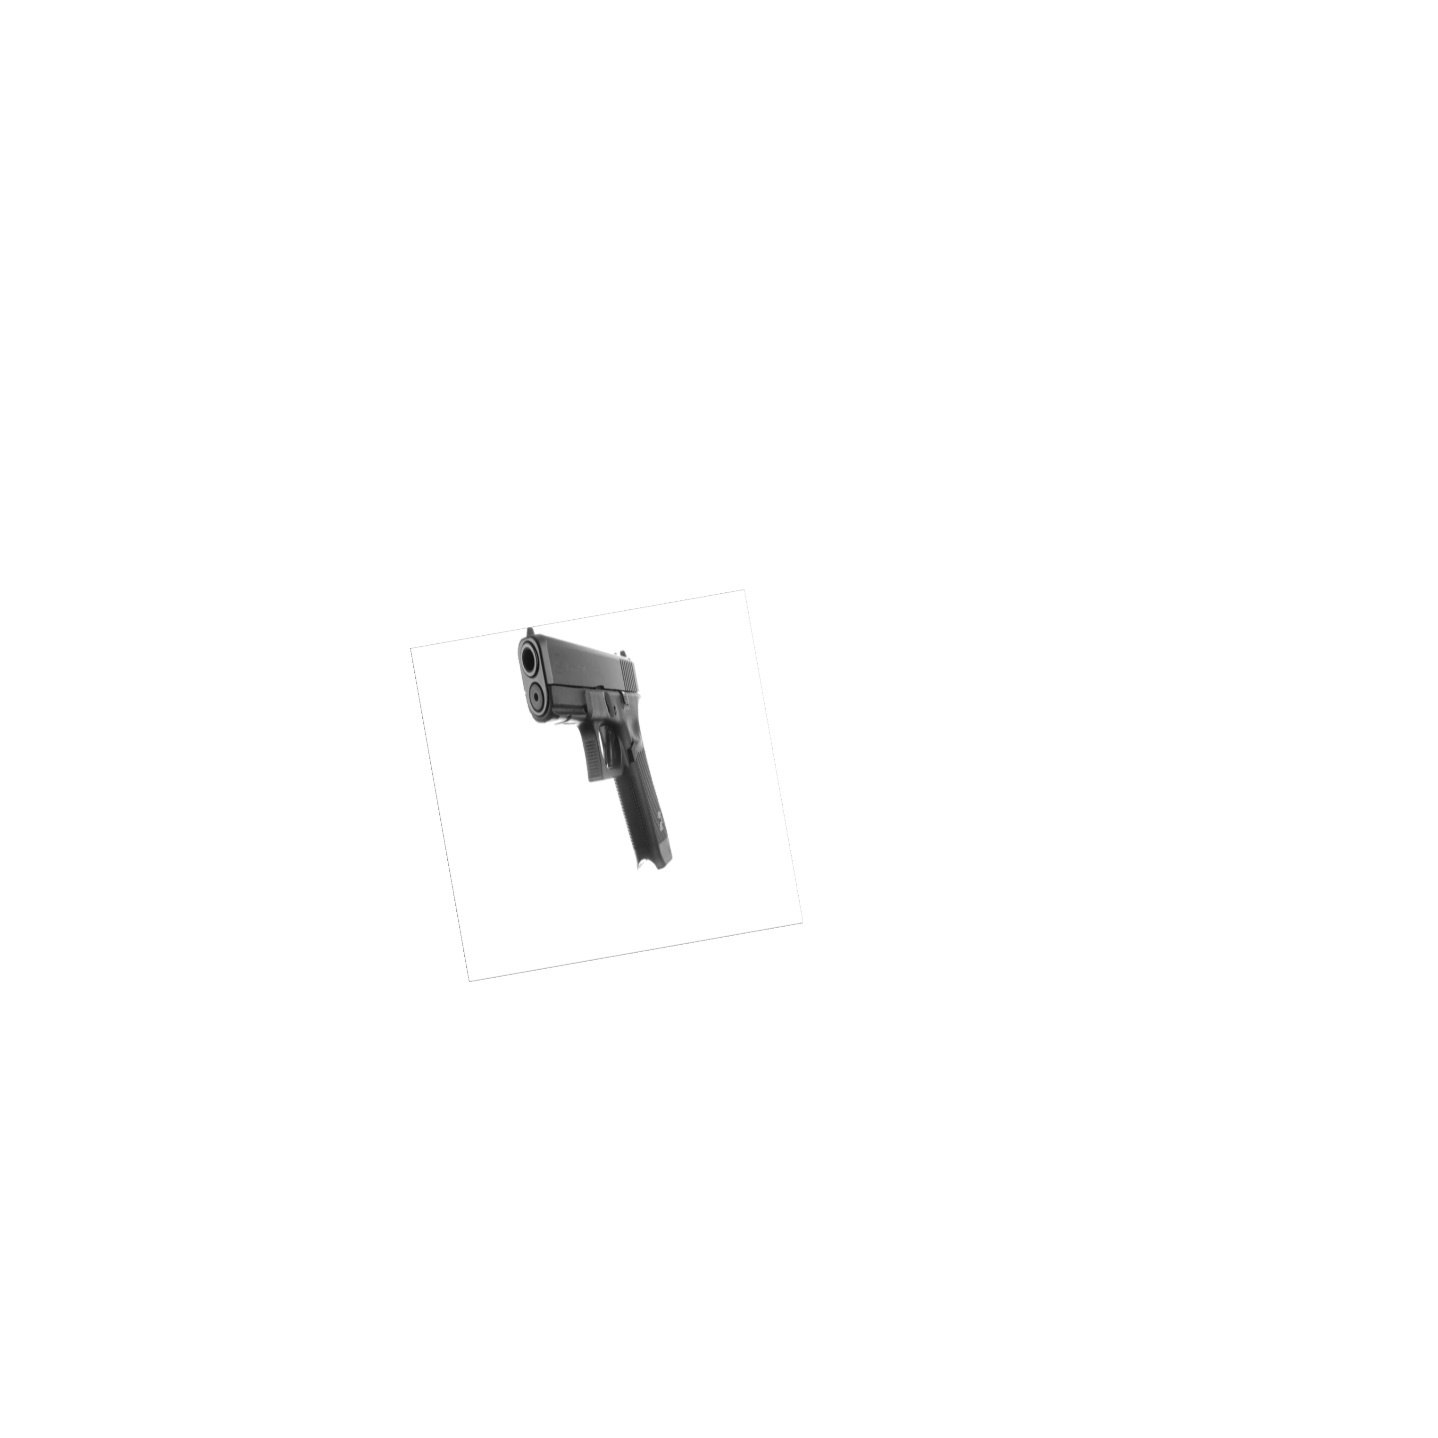gun: (520, 626, 674, 870)
